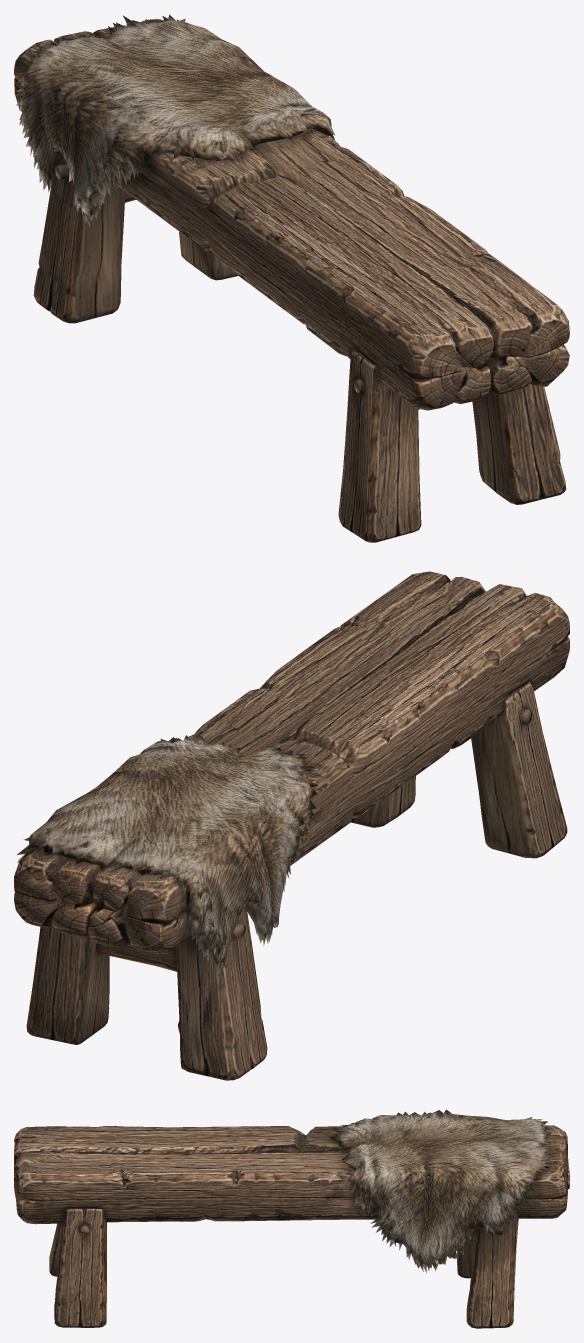
File: SM_Env_HeorotLongBench.fbx
3 renders of one model, top to bottom at view 1: azimuth 30°, elevation 25°; view 2: azimuth 150°, elevation 25°; view 3: azimuth 270°, elevation 25°, orthographic. The views are drawn at different scales.
Visible parts, largest first — view 1: SM_Env_HeorotLongBench; view 2: SM_Env_HeorotLongBench; view 3: SM_Env_HeorotLongBench.
Boxes of the visible parts, left/top/right/bottom form: SM_Env_HeorotLongBench: left=14, top=14, right=569, bottom=542; SM_Env_HeorotLongBench: left=14, top=571, right=569, bottom=1080; SM_Env_HeorotLongBench: left=14, top=1109, right=569, bottom=1328.
Size of the model in its own units: 13.94 by 47.02 by 15.
1 material, 1 textured.
